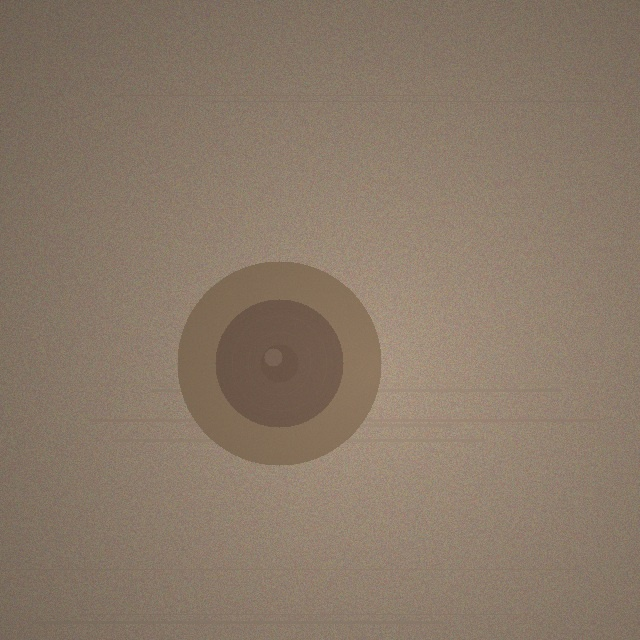good: (177, 261, 381, 465)
